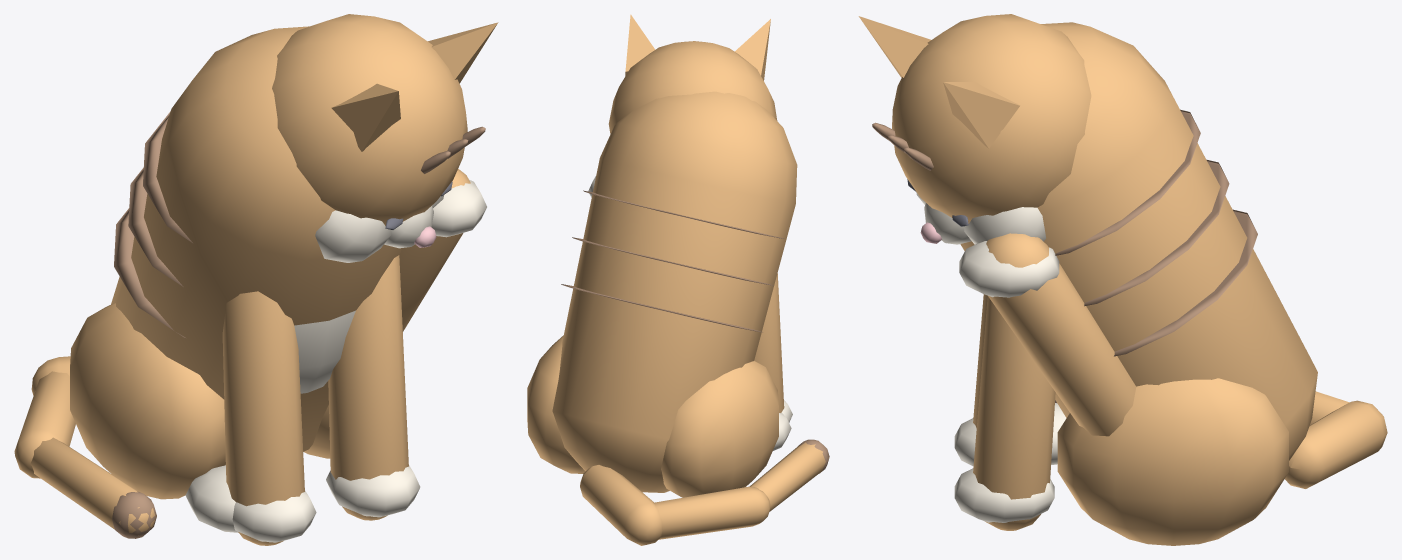
The model's file is companion-animals-and-pet-home-cat-grooming-baa63170__20561.glb.
3 views of the same model, side by side, from view 1: azimuth 30°, elevation 25°; view 2: azimuth 150°, elevation 25°; view 3: azimuth 270°, elevation 25° (orthographic). The views are drawn at different scales.
Parts seen in each view (by area): view 1: cat-grooming; view 2: cat-grooming; view 3: cat-grooming.
Boxes of the visible parts, x1,y1,x2,y2 form: cat-grooming: [14, 14, 498, 545]; cat-grooming: [527, 14, 829, 545]; cat-grooming: [858, 14, 1387, 545].
Size of the model in its own units: 0.3137 by 0.435 by 0.4216.
